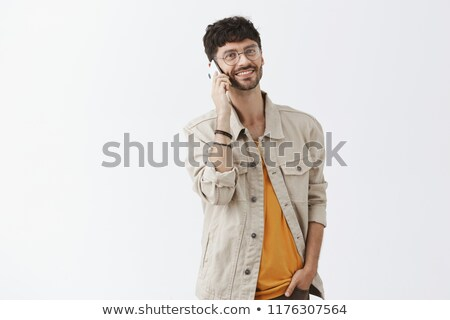phone: (203, 60, 231, 97)
talk: (199, 42, 268, 109)
